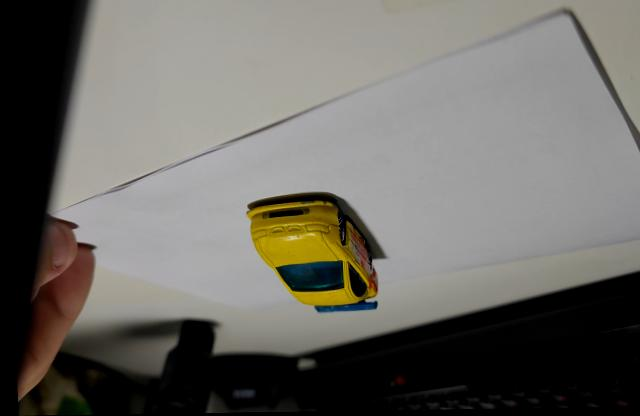02_OZSOME: (244, 192, 376, 313)
